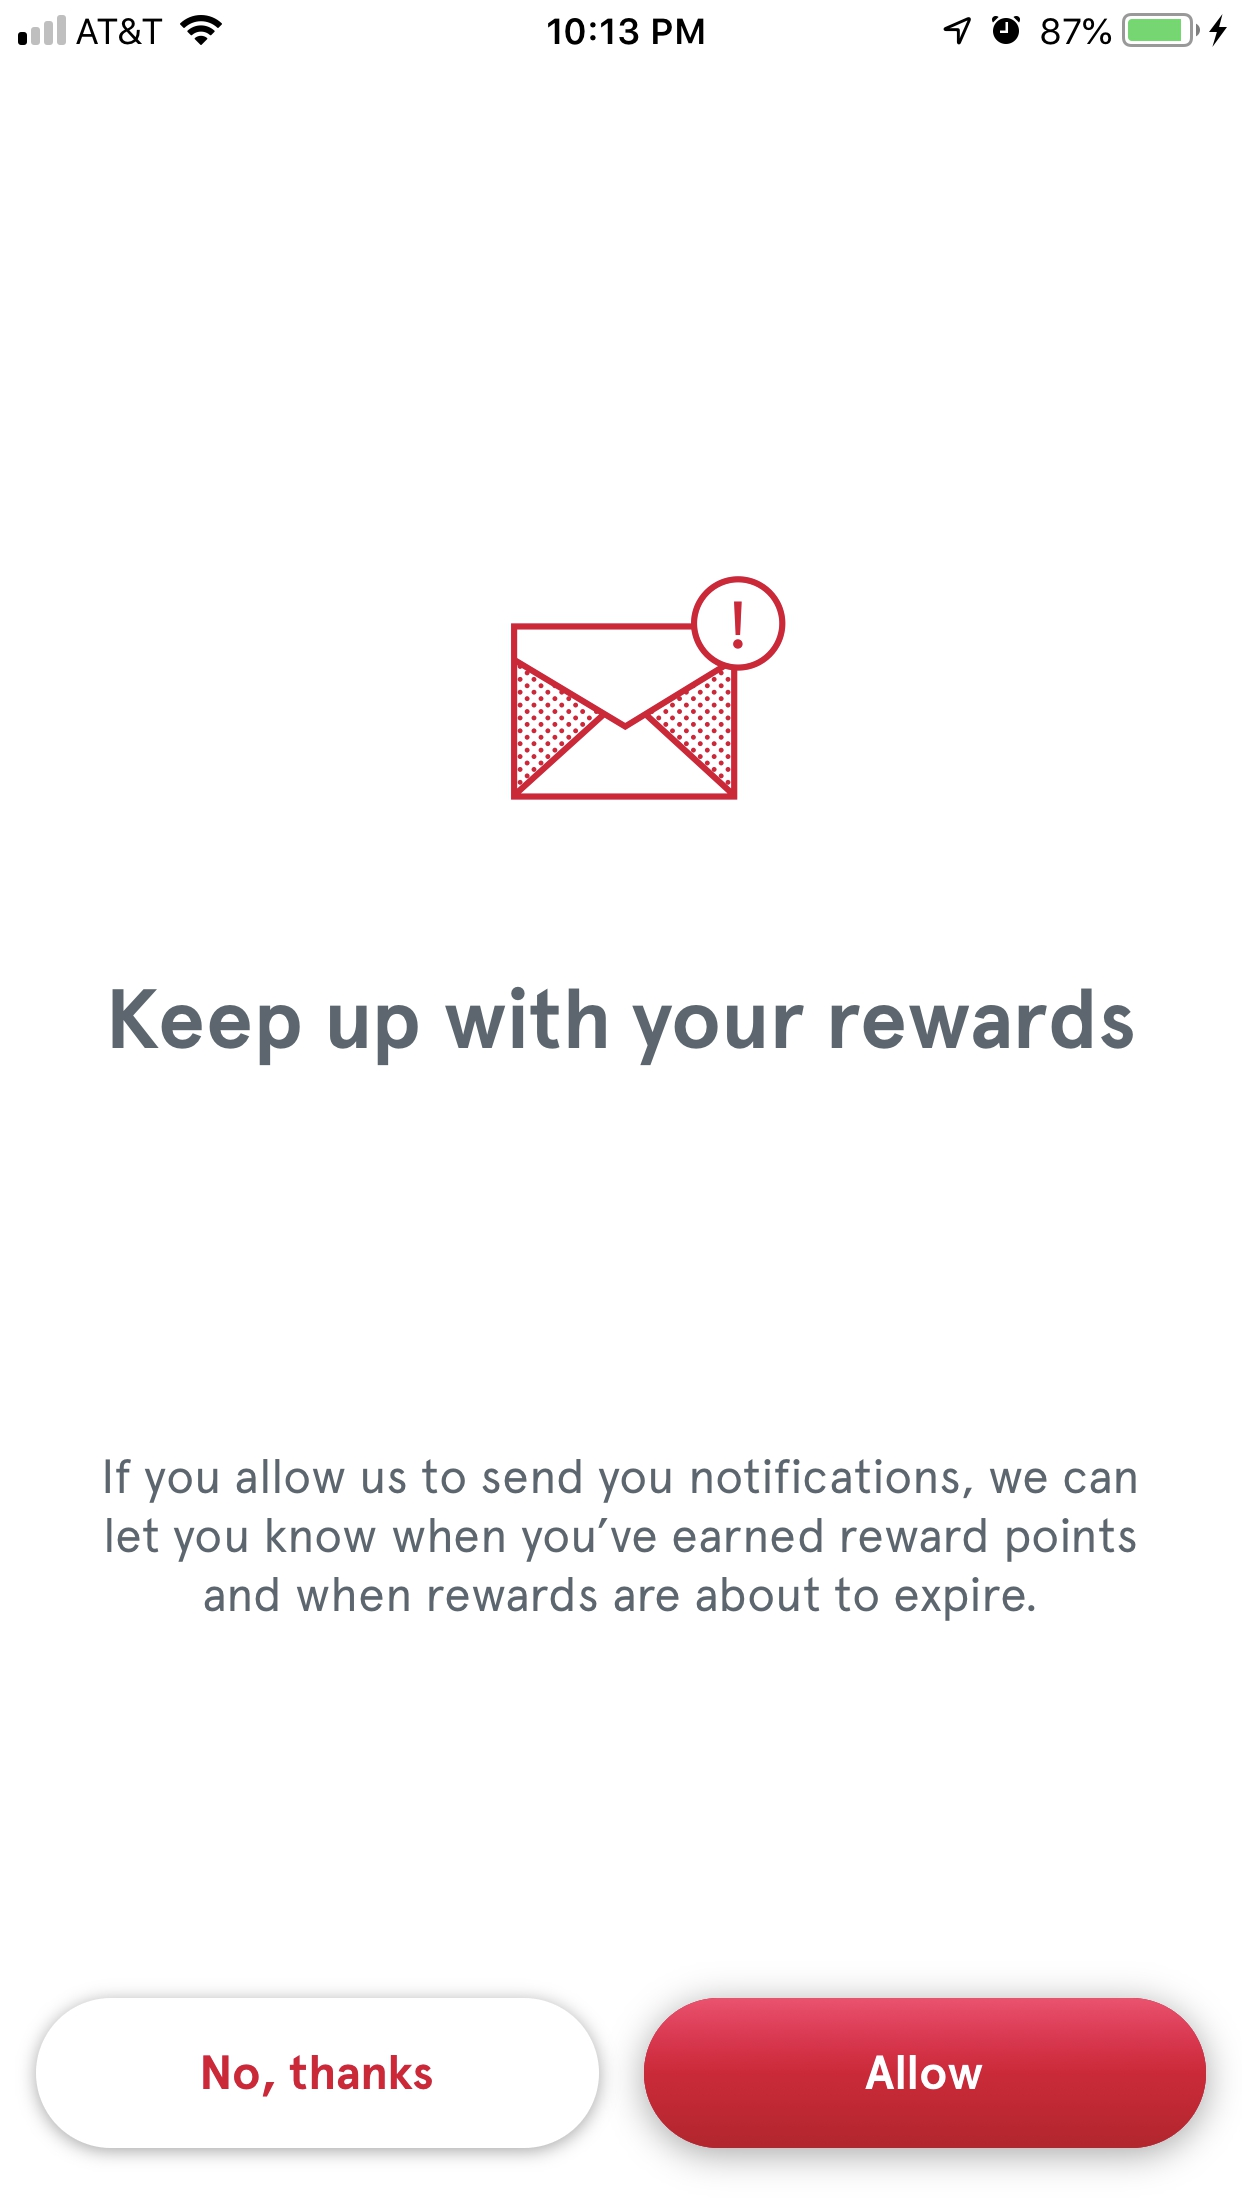Image: (510, 575, 787, 801)
Text: (105, 1457, 1137, 1623), (111, 986, 1134, 1068)
TextButton: (35, 1997, 601, 2150), (643, 1997, 1207, 2149)
UpperTaskBar: (2, 2, 1242, 49)
